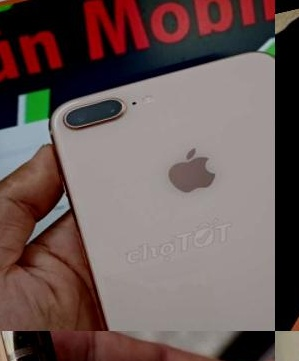scratch: (0, 331, 91, 361)
